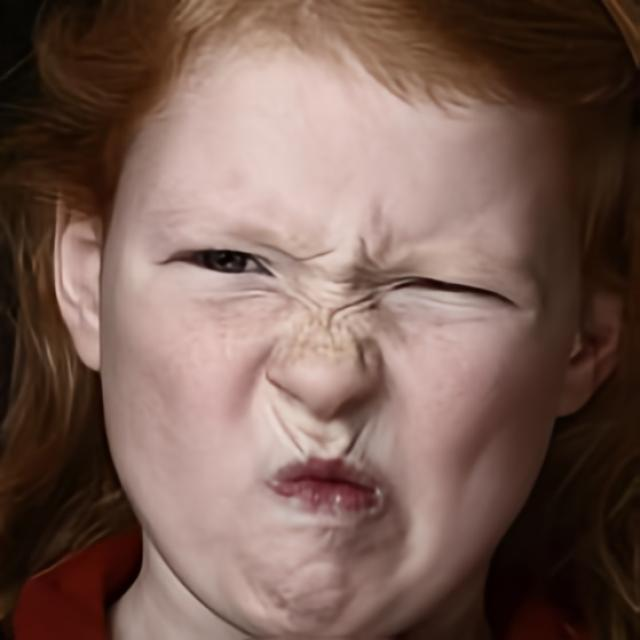disgust: (98, 4, 580, 640)
